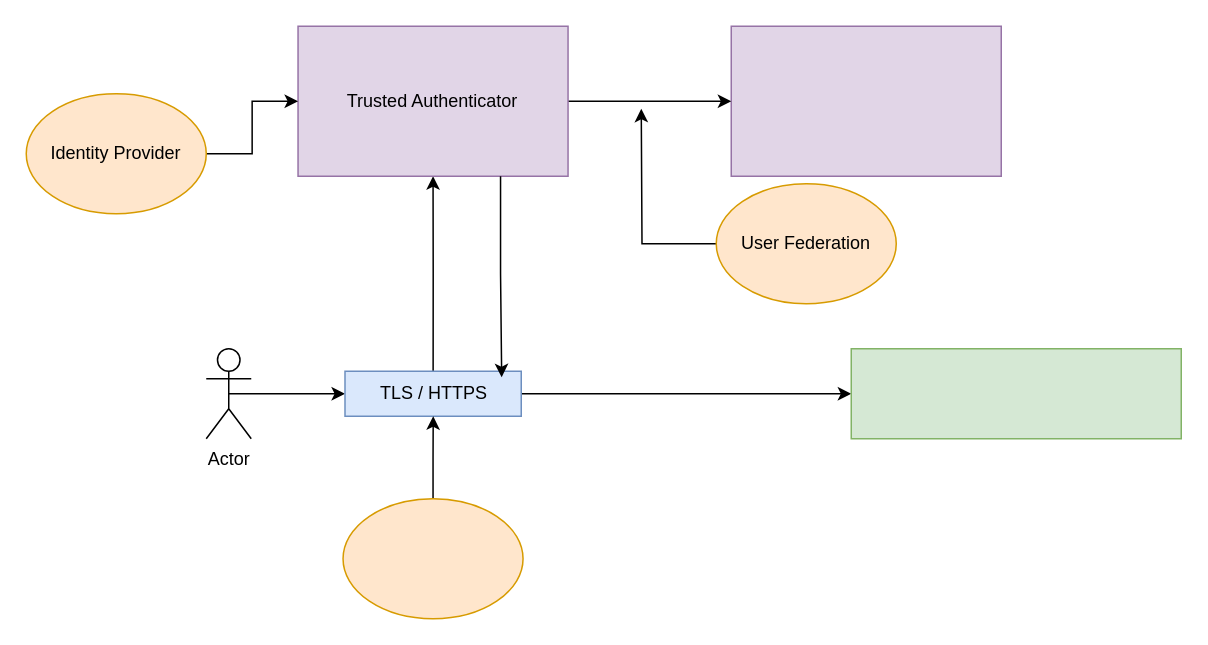
The diagram is 1208 pixels wide and 645 high, and some of its shapes have lost their labels. Each missing label, with the centre of its shape:
"Pflicht durch RFC-Standard" goes at point 432,558.
"Server-Application" goes at point 1015,393.
"User Database, LDAP/AD" goes at point 865,100.
